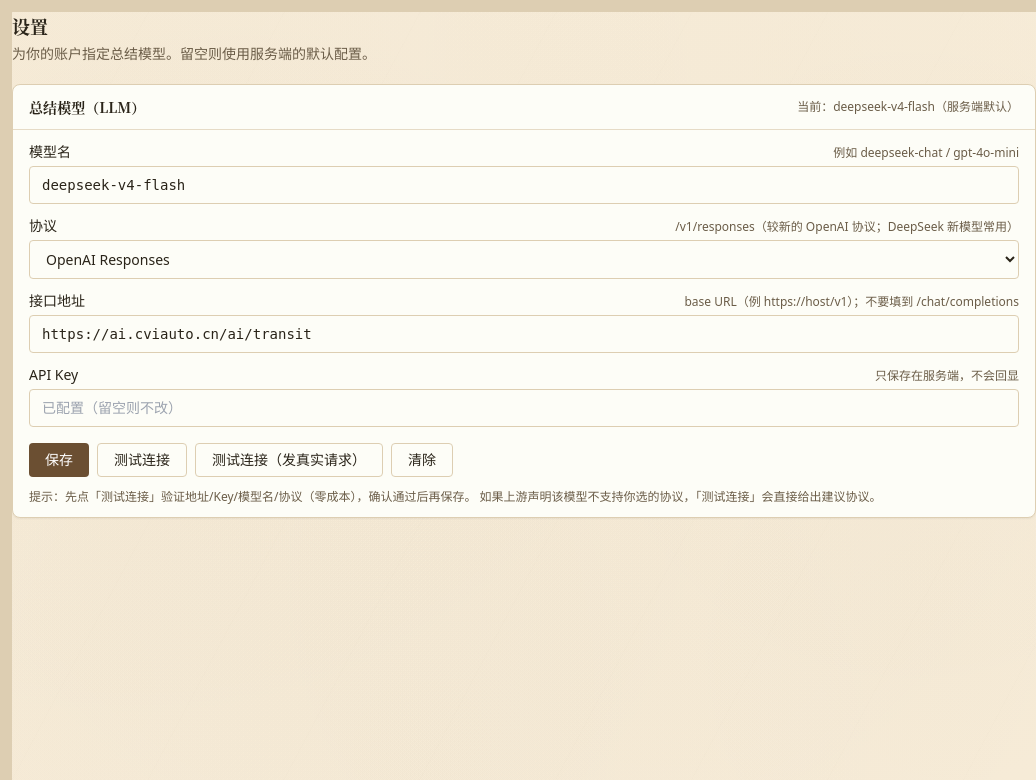
it: 设置页：LLM 多协议与连接自检（TASK-113） › 成功时展示协议与端点（用户能核对到底打了哪个 URL）
Click the button "测试连接" at {"x": 142, "y": 460}, box 97,443 -> 187,477
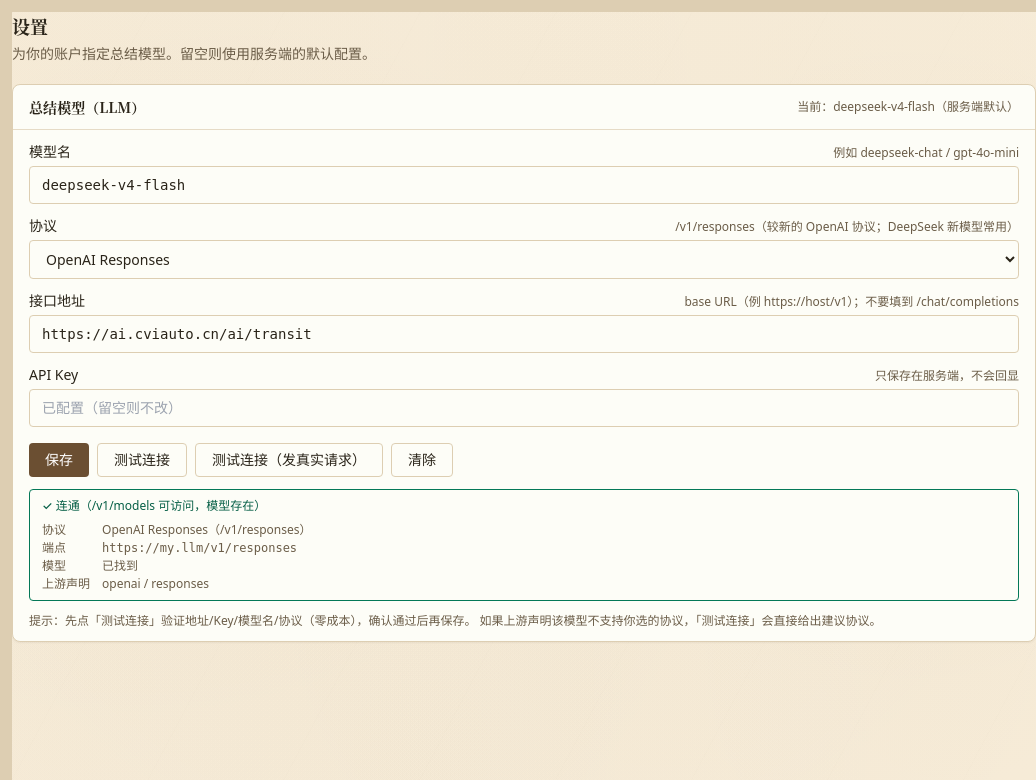
Result: the element with test id "llm-test-result" shows "连通" at 56,497 -> 266,514
Result: the text with test id "llm-test-protocol" shows "Responses" at 102,521 -> 312,538
Result: the element with test id "llm-test-result" shows "/v1/responses" at 102,521 -> 312,538
